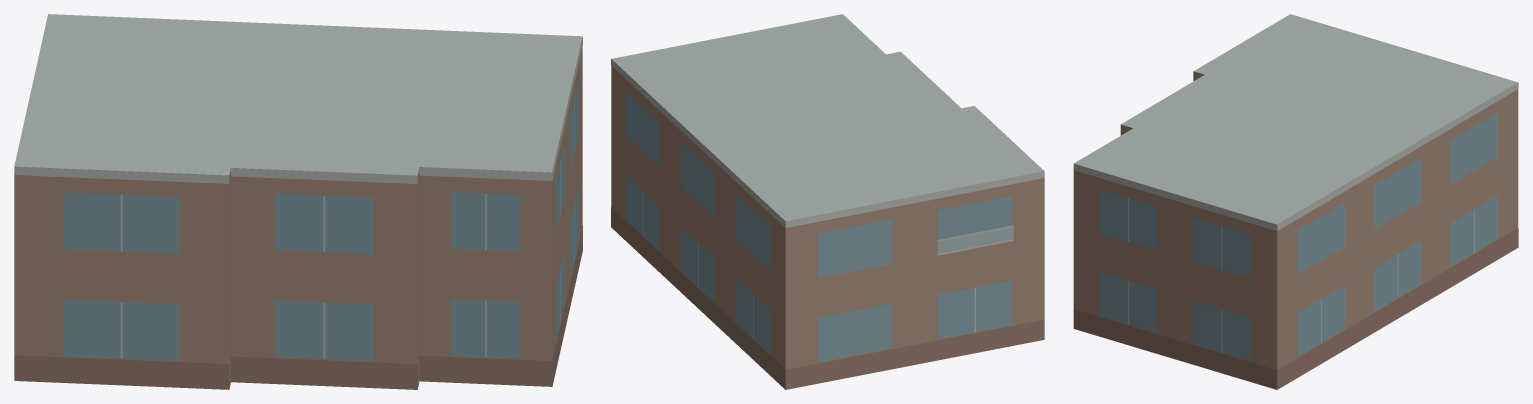
Rendered from survey-upis-32779231.glb.
The picture shows the model from 3 angles, left to right: view 1: azimuth 30°, elevation 25°; view 2: azimuth 150°, elevation 25°; view 3: azimuth 270°, elevation 25°; orthographic projection. The views are drawn at different scales.
Visible parts, largest first — view 1: survey-upis-32779231.tmp; view 2: survey-upis-32779231.tmp; view 3: survey-upis-32779231.tmp.
Part boxes in pixels (x1=…): survey-upis-32779231.tmp: x1=14, y1=14, x2=582, y2=389; survey-upis-32779231.tmp: x1=611, y1=14, x2=1044, y2=389; survey-upis-32779231.tmp: x1=1073, y1=14, x2=1518, y2=389.
Bounding box in the file's own units: 16.69 × 6.1 × 14.89.
